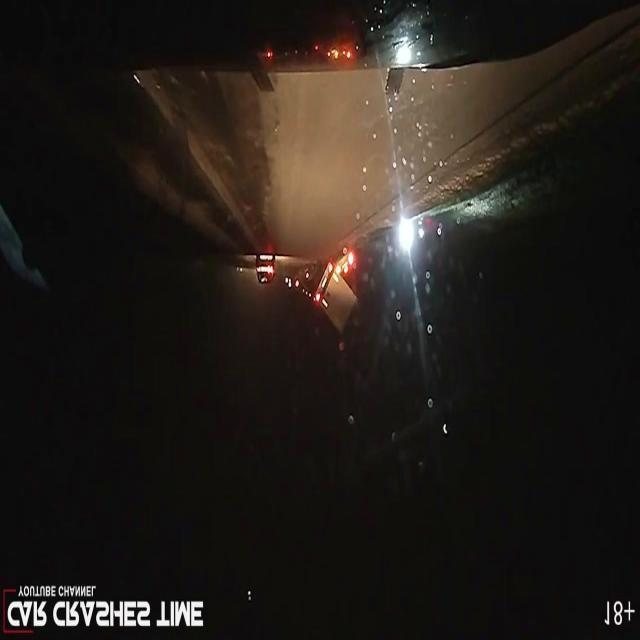vehicle: (285, 239, 386, 348)
